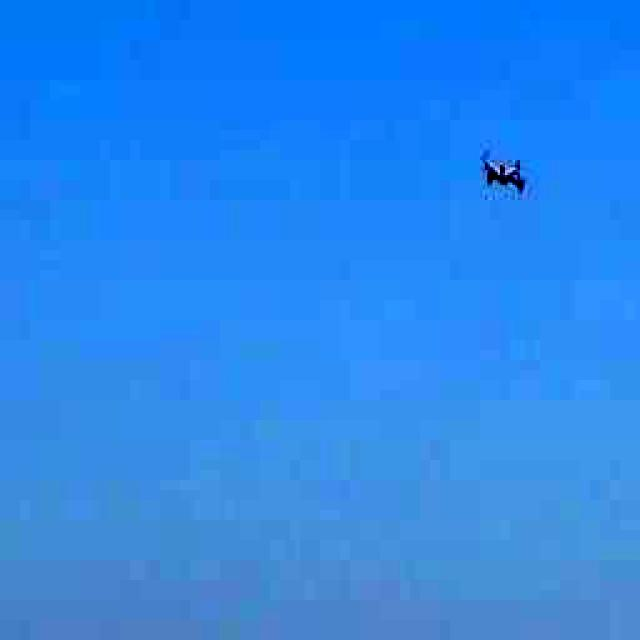bird: (445, 109, 552, 224)
